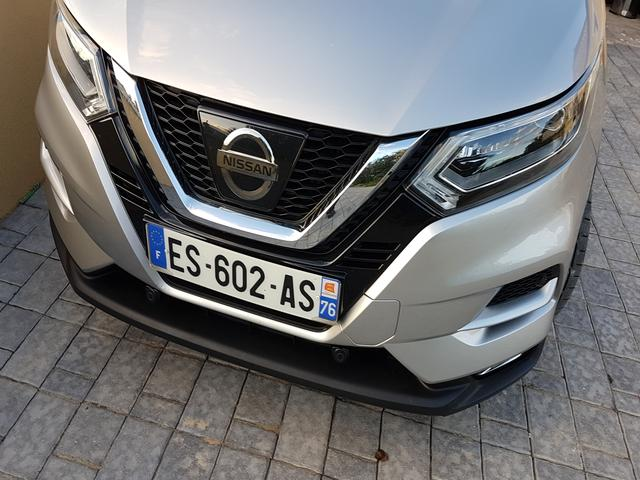Quashquai: (132, 208, 355, 341)
